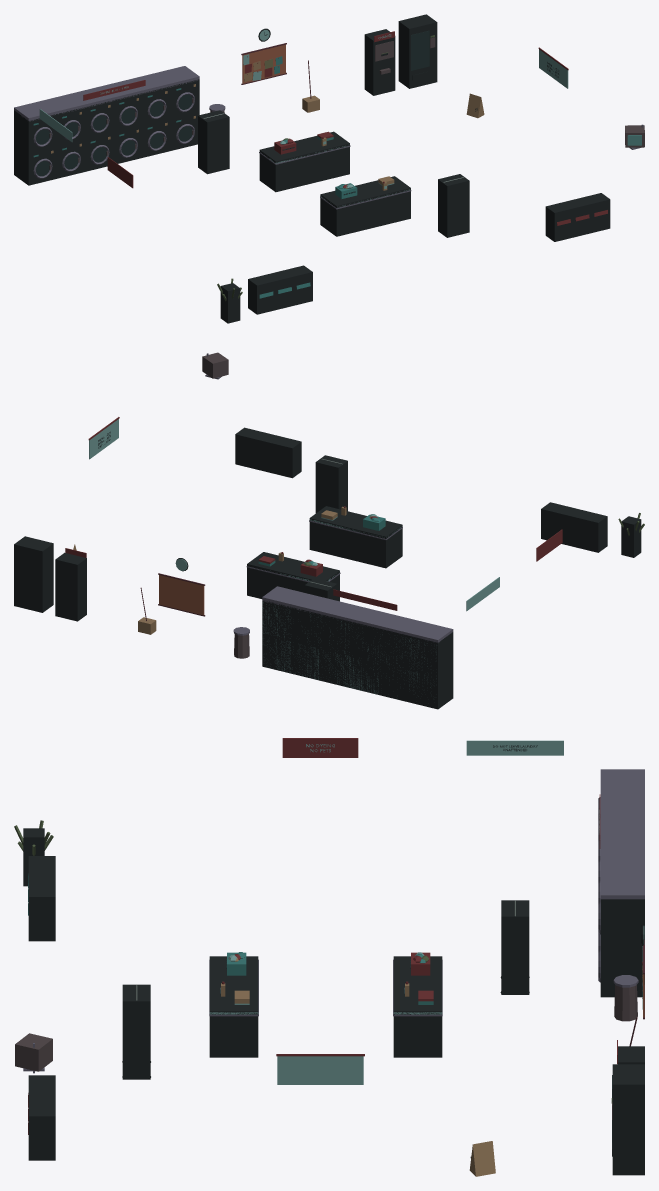
File: decor_spalatorie.glb
The picture shows the model from 3 angles, top to bottom: view 1: azimuth 30°, elevation 25°; view 2: azimuth 150°, elevation 25°; view 3: azimuth 270°, elevation 25°; orthographic projection. The views are drawn at different scales.
Visible parts, largest first — view 1: Coliziune, Decor, Geamuri; view 2: Coliziune, Decor; view 3: Coliziune, Decor.
Part boxes in pixels (<box>): Coliziune: <box>14,14,610,323</box>; Decor: <box>14,28,644,301</box>; Geamuri: <box>36,30,429,176</box>; Coliziune: <box>14,427,641,709</box>; Decor: <box>65,352,644,696</box>; Coliziune: <box>23,828,644,1175</box>; Decor: <box>14,738,644,1176</box>.
Size of the model in its own units: 14 by 2.9 by 11.67.
